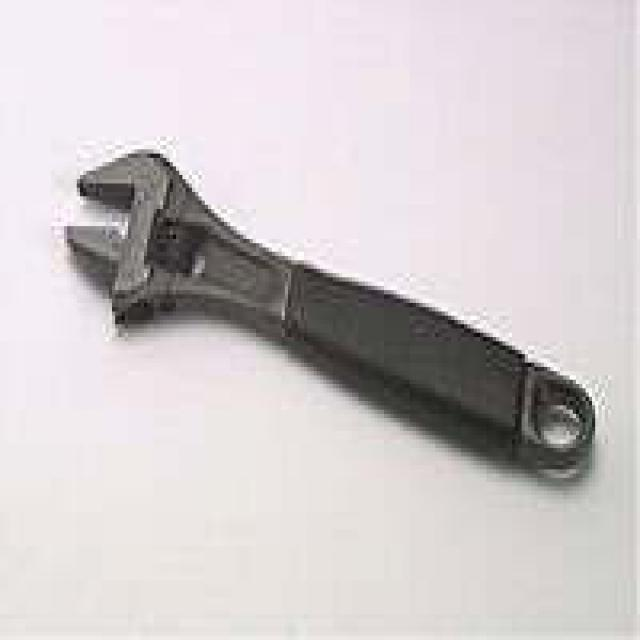wrench: (58, 140, 602, 491)
